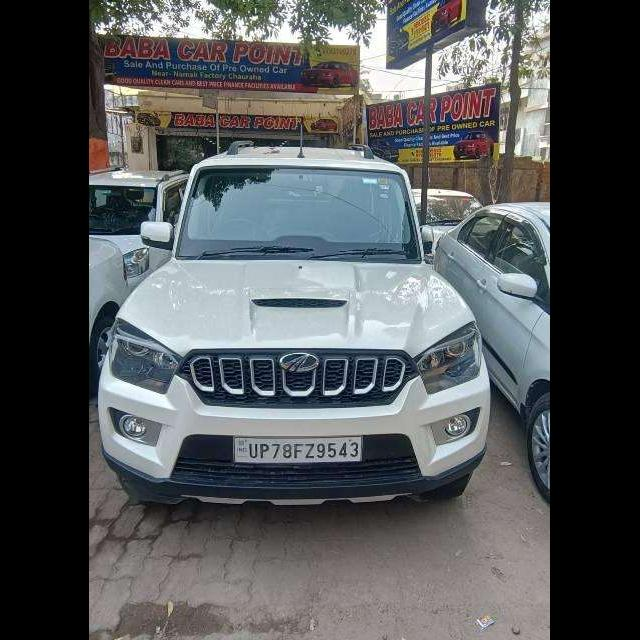Indian_Number_Plate: (235, 435, 363, 462)
